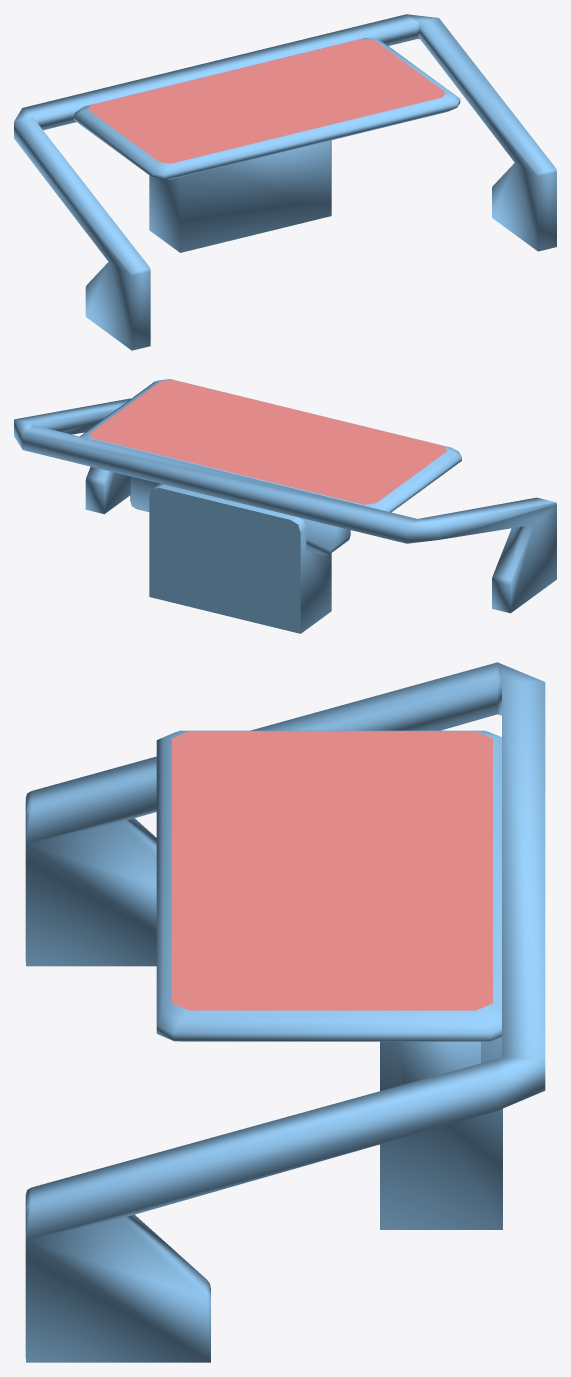
Rendered from Computer desk.fbx.
3 views of the same model, one above another, from view 1: azimuth 30°, elevation 25°; view 2: azimuth 150°, elevation 25°; view 3: azimuth 270°, elevation 25° (orthographic). The views are drawn at different scales.
Parts seen in each view (by area): view 1: Computer desk, Computer desk top; view 2: Computer desk, Computer desk top; view 3: Computer desk, Computer desk top.
Boxes of the visible parts, x1,y1,x2,y2 form: Computer desk: [14, 14, 556, 350]; Computer desk top: [88, 38, 445, 163]; Computer desk: [14, 379, 556, 633]; Computer desk top: [89, 380, 447, 504]; Computer desk: [25, 662, 545, 1362]; Computer desk top: [172, 731, 492, 1010].
Size of the model in its own units: 239 by 76.96 by 127.
